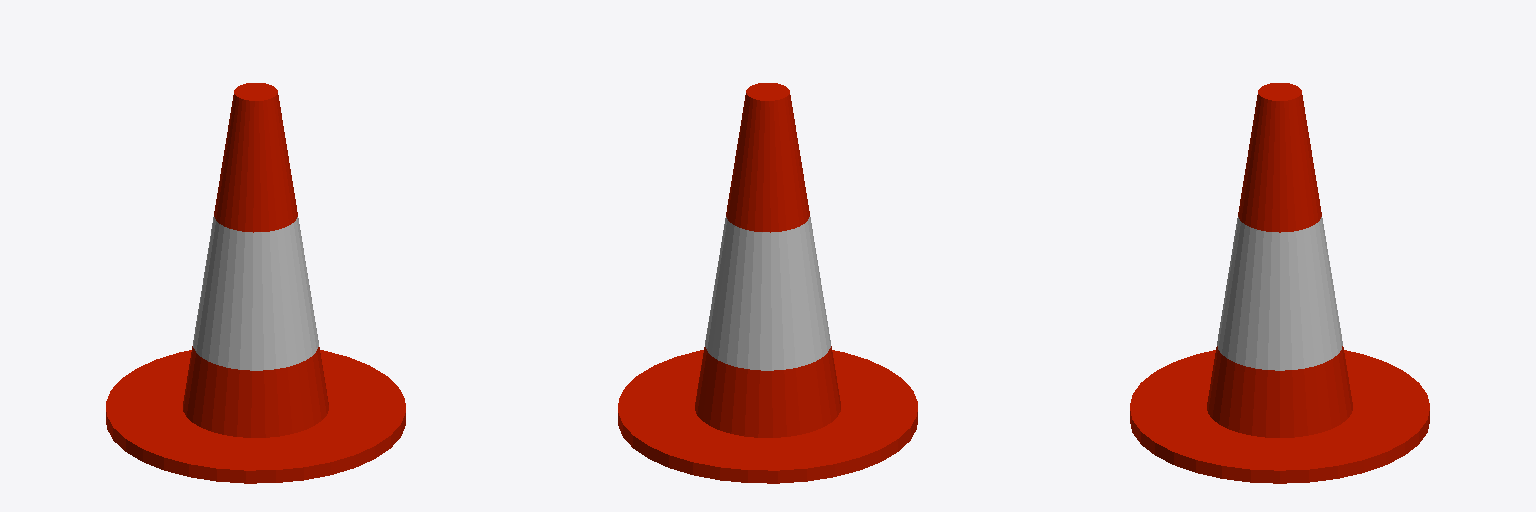
3 renders of one model, left to right at view 1: azimuth 30°, elevation 25°; view 2: azimuth 150°, elevation 25°; view 3: azimuth 270°, elevation 25°, orthographic.
Visible parts, largest first — view 1: Cylinder.001; view 2: Cylinder.001; view 3: Cylinder.001.
Part boxes in pixels (x1,y1,x2,y2): Cylinder.001: (106,83,405,483); Cylinder.001: (618,83,917,483); Cylinder.001: (1130,83,1429,483).
Size of the model in its own units: 2.49 by 3 by 2.49.